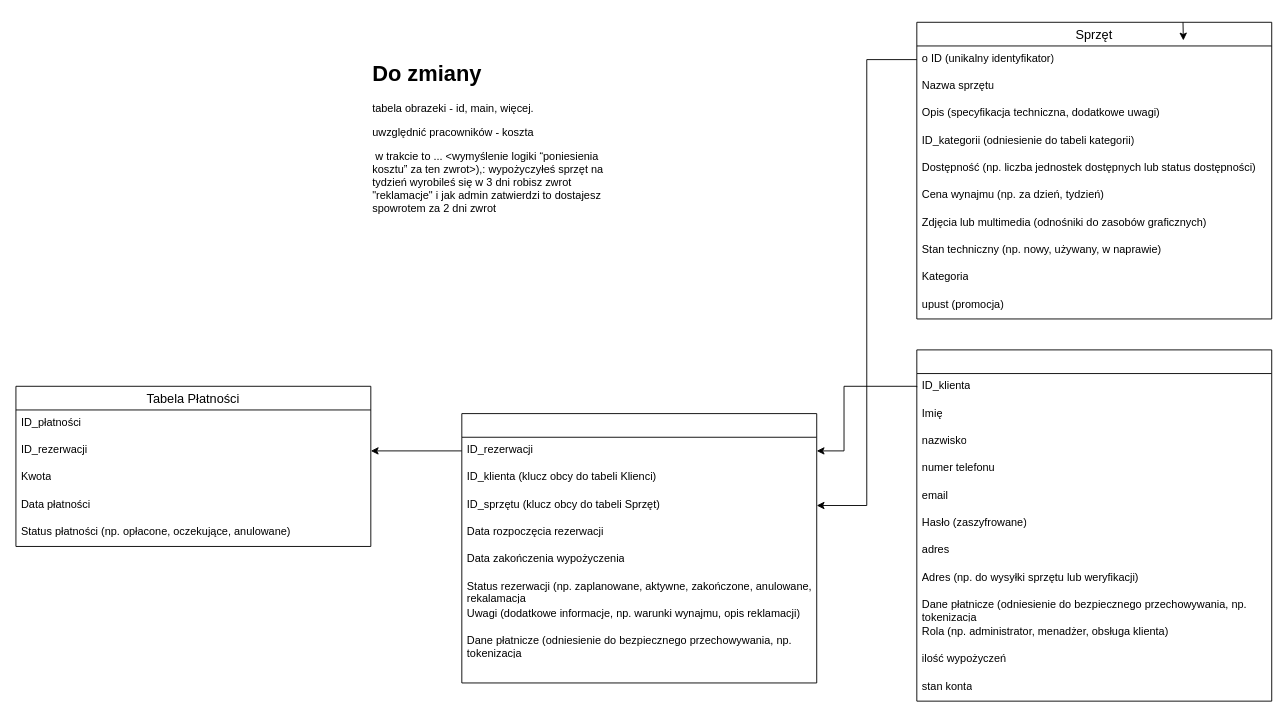
This 1288x720 diagram has some shape labels left out. The box of each missing label's shape, as (x1, y1, x2, y2) in pixels:
Rezerwacje / wypożyczenia: (461, 413, 817, 683)
users: (916, 349, 1272, 701)
